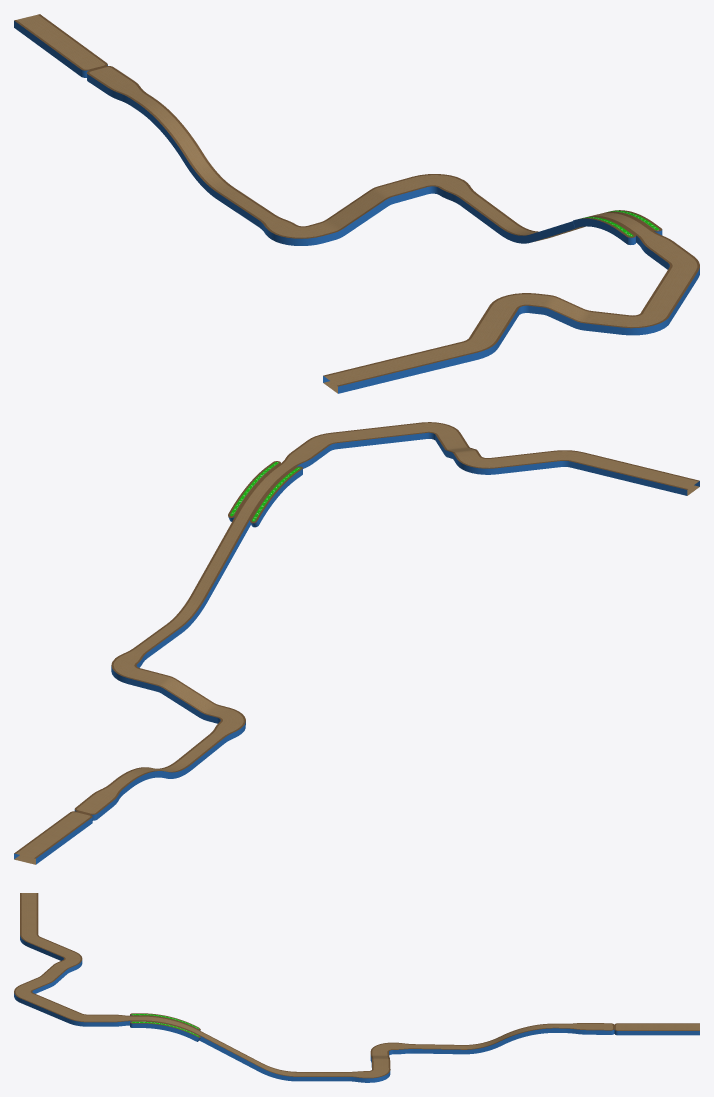
File: RAMP_7.FBX
3 views of the same model, one above another, from view 1: azimuth 30°, elevation 25°; view 2: azimuth 150°, elevation 25°; view 3: azimuth 270°, elevation 25° (orthographic). The views are drawn at different scales.
Visible parts, largest first — view 1: ramp_7; view 2: ramp_7; view 3: ramp_7.
Boxes of the visible parts, x1=… form: ramp_7: x1=14, y1=14, x2=699, y2=393; ramp_7: x1=14, y1=422, x2=699, y2=864; ramp_7: x1=14, y1=893, x2=699, y2=1082.
Bounding box in the file's own units: 2829 × 898 × 6628.
